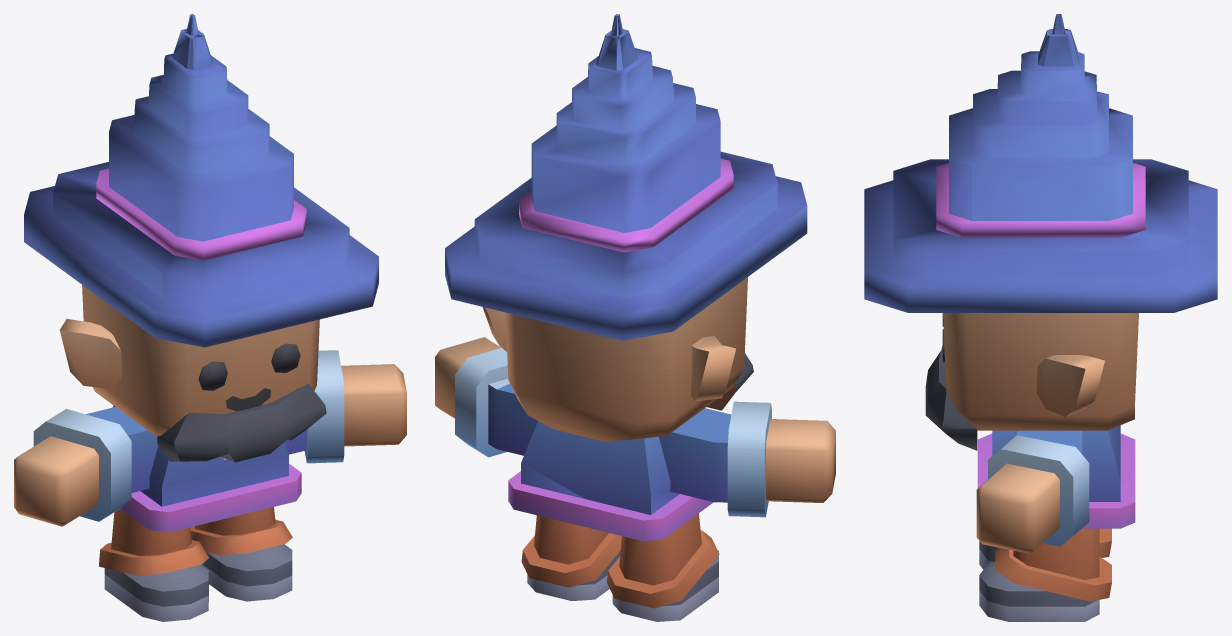
Rendered from mago_azul.fbx.
3 renders of one model, left to right at view 1: azimuth 30°, elevation 25°; view 2: azimuth 150°, elevation 25°; view 3: azimuth 270°, elevation 25°, orthographic. The views are drawn at different scales.
Parts seen in each view (by area): view 1: head-mesh.004, body-mesh.004; view 2: head-mesh.004, body-mesh.004; view 3: head-mesh.004, body-mesh.004.
Boxes of the visible parts, x1,y1,x2,y2 form: head-mesh.004: [24, 14, 378, 462]; body-mesh.004: [14, 350, 406, 621]; head-mesh.004: [445, 14, 807, 441]; body-mesh.004: [435, 337, 835, 621]; head-mesh.004: [864, 14, 1217, 450]; body-mesh.004: [976, 425, 1135, 621].
Size of the model in its own units: 76.72 by 107 by 60.19.
